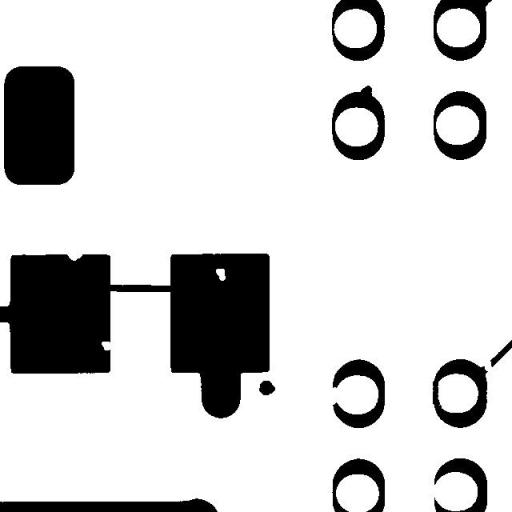copper: (252, 373, 282, 402)
mousebite: (58, 241, 90, 268), (94, 334, 118, 358)
open: (322, 379, 346, 412), (474, 353, 500, 378)
pin-hole: (208, 261, 233, 288)
short: (98, 276, 181, 299), (424, 372, 450, 418)
spur: (353, 78, 379, 108)
